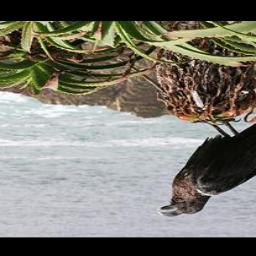Crow: (153, 105, 256, 219)
